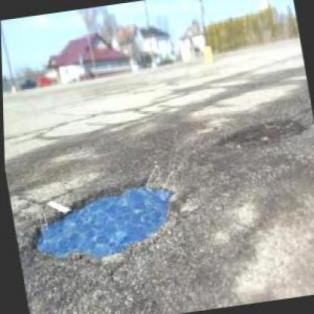Hueco: (21, 173, 182, 265), (214, 114, 306, 152)
